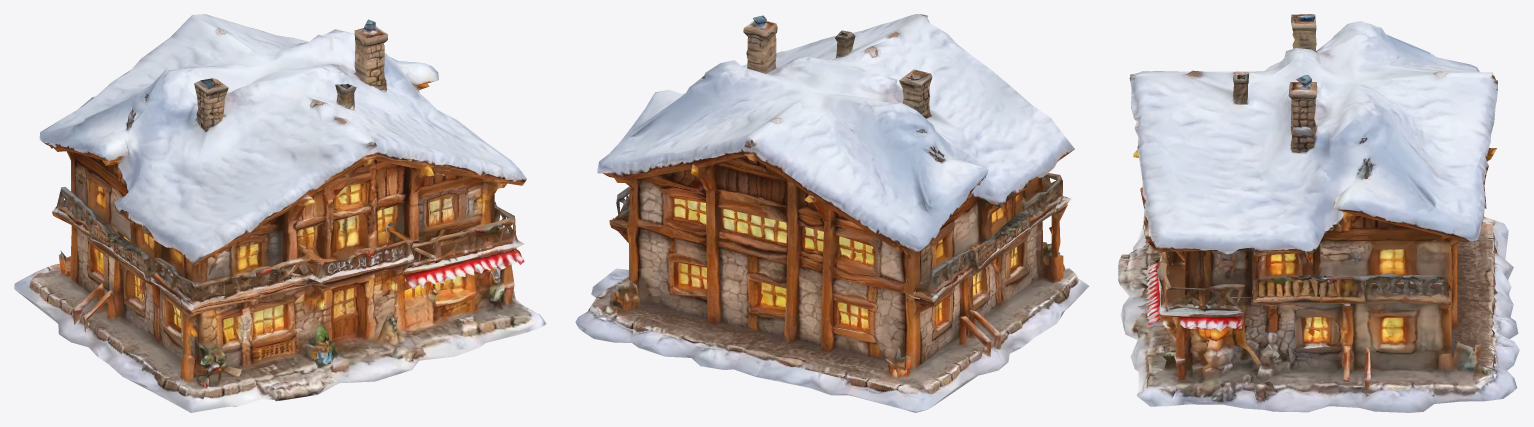
Rendered from dio_chalet.glb.
The picture shows the model from 3 angles, left to right: view 1: azimuth 30°, elevation 25°; view 2: azimuth 150°, elevation 25°; view 3: azimuth 270°, elevation 25°; orthographic projection. The views are drawn at different scales.
Parts seen in each view (by area): view 1: tripo_part_0, tripo_part_4; view 2: tripo_part_0, tripo_part_4; view 3: tripo_part_0, tripo_part_4.
Boxes of the visible parts, x1,y1,x2,y2 form: tripo_part_0: [14, 14, 546, 412]; tripo_part_4: [52, 187, 523, 314]; tripo_part_0: [575, 14, 1089, 412]; tripo_part_4: [609, 173, 1071, 302]; tripo_part_0: [1118, 14, 1519, 412]; tripo_part_4: [1140, 187, 1451, 331].
Bounding box in the file's own units: 0.5376 × 0.3551 × 0.4571.
2 materials, 2 textured.
